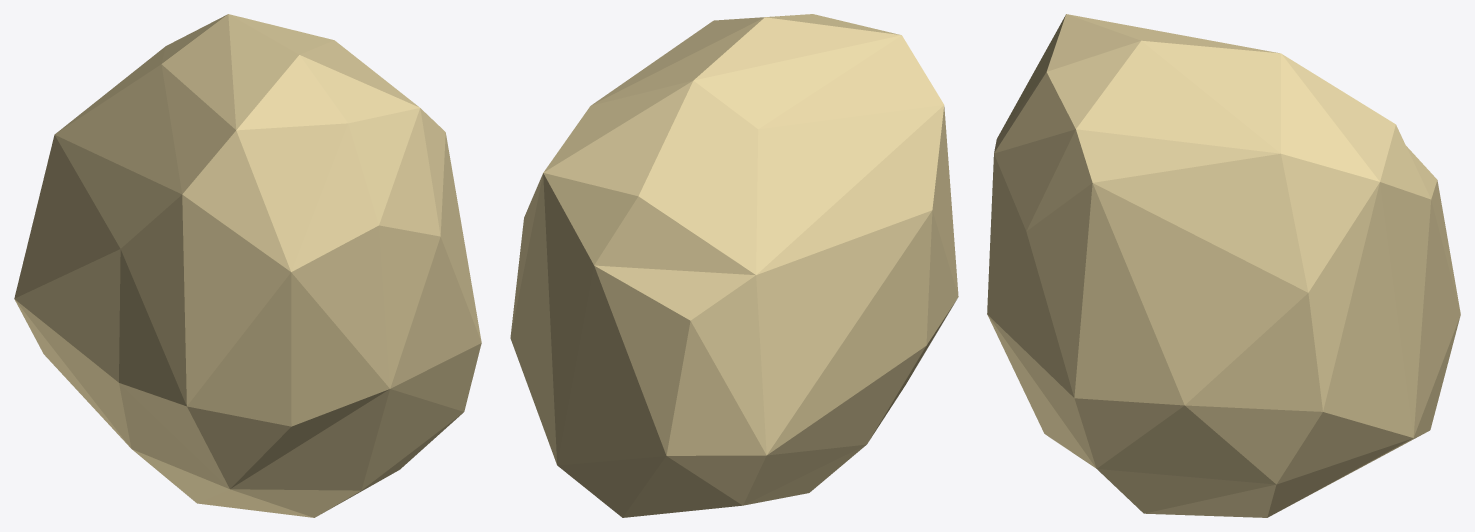
Rendered from Rock (88).fbx.
The picture shows the model from 3 angles, left to right: view 1: azimuth 30°, elevation 25°; view 2: azimuth 150°, elevation 25°; view 3: azimuth 270°, elevation 25°; orthographic projection. The views are drawn at different scales.
Visible parts, largest first — view 1: Asteroid87; view 2: Asteroid87; view 3: Asteroid87.
Part boxes in pixels (bbox=[...]): Asteroid87: bbox=[14, 14, 481, 517]; Asteroid87: bbox=[510, 14, 958, 517]; Asteroid87: bbox=[987, 14, 1460, 517].
Bounding box in the file's own units: 56 × 70.54 × 67.33.
